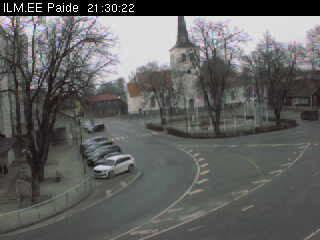car: (92, 154, 136, 180), (87, 144, 121, 166), (82, 140, 115, 158), (94, 152, 127, 165), (82, 136, 109, 150), (299, 109, 320, 121), (87, 123, 105, 134), (84, 120, 100, 130)
